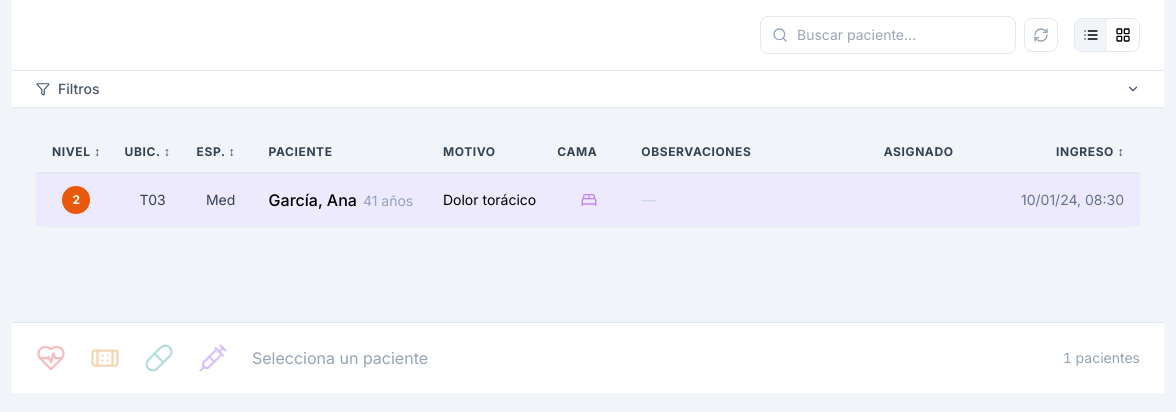
Test: Doctor admit toggle › shows Ingresado button when patient is already admitted
Click the text "García, Ana". click: (342, 200)
box: [253,173,431,226]
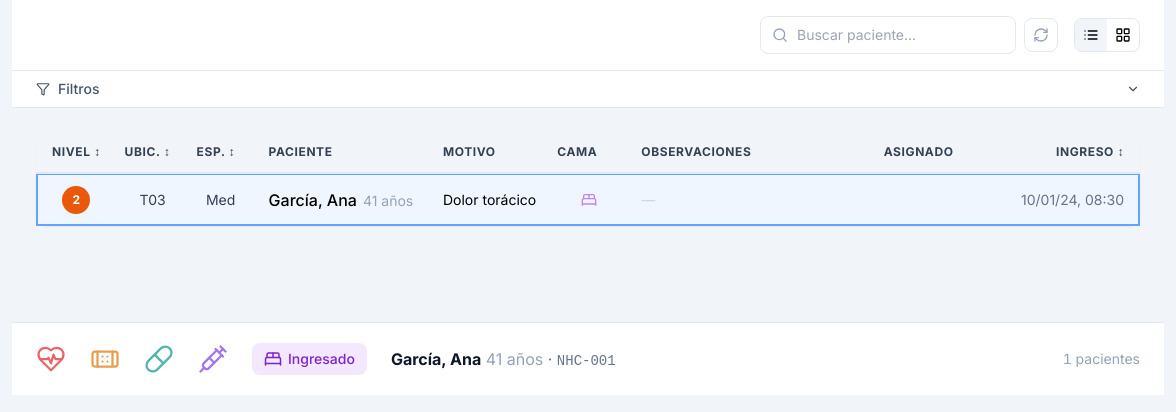
Result: the button with test id "admit-toggle" reads "Ingresado" at [252,343,367,375]
